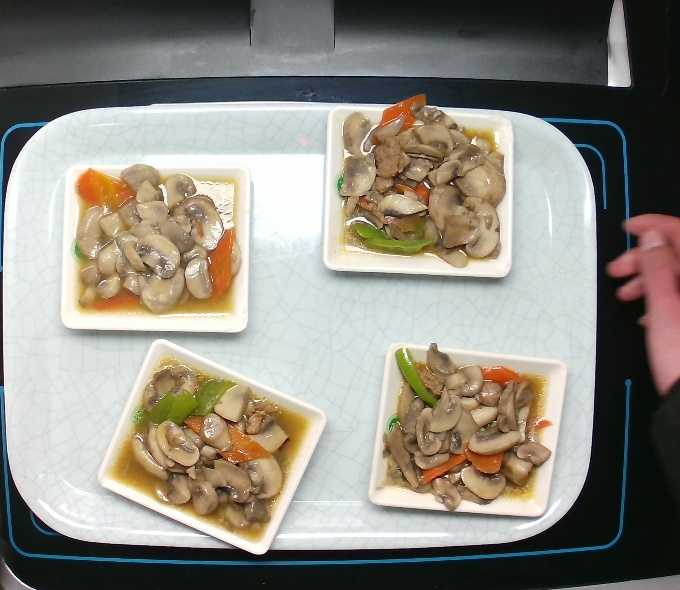wcq-HouTouGuChaoRou: (114, 348, 312, 552), (331, 90, 513, 273), (372, 338, 558, 515), (69, 156, 245, 320)
